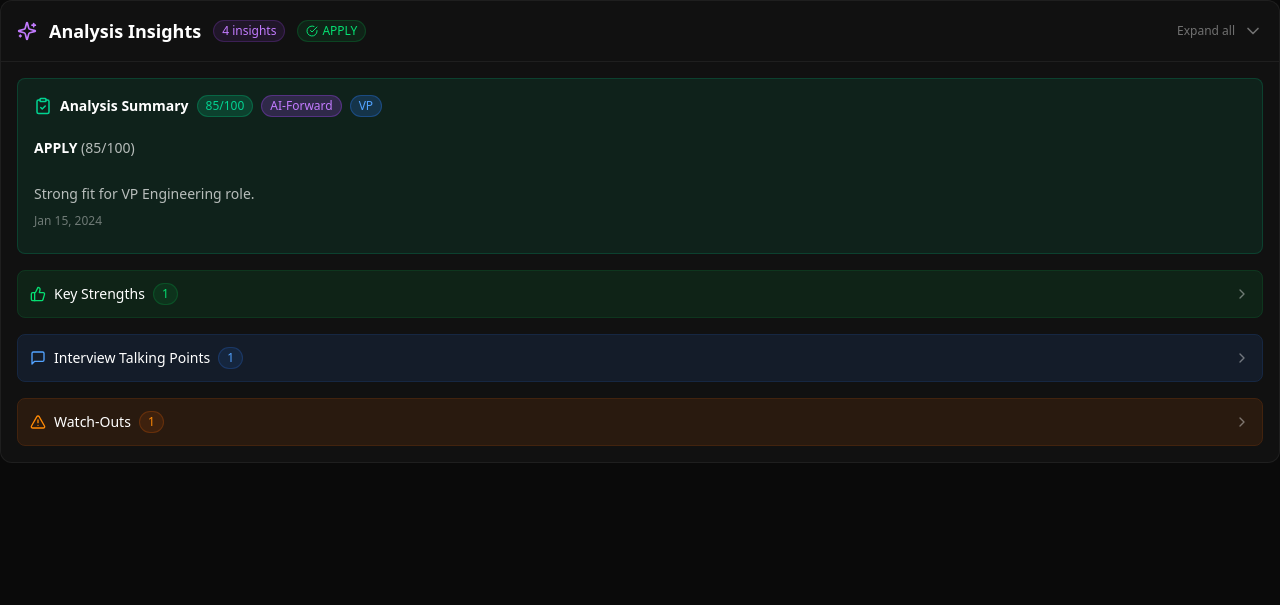
it: AnalysisInsightsPanel › expands section when clicked
This screenshot has width=1280, height=605.
# Click to expand
Click the button "Key Strengths 1".
click(99, 294)  # box 18,271 -> 1262,317
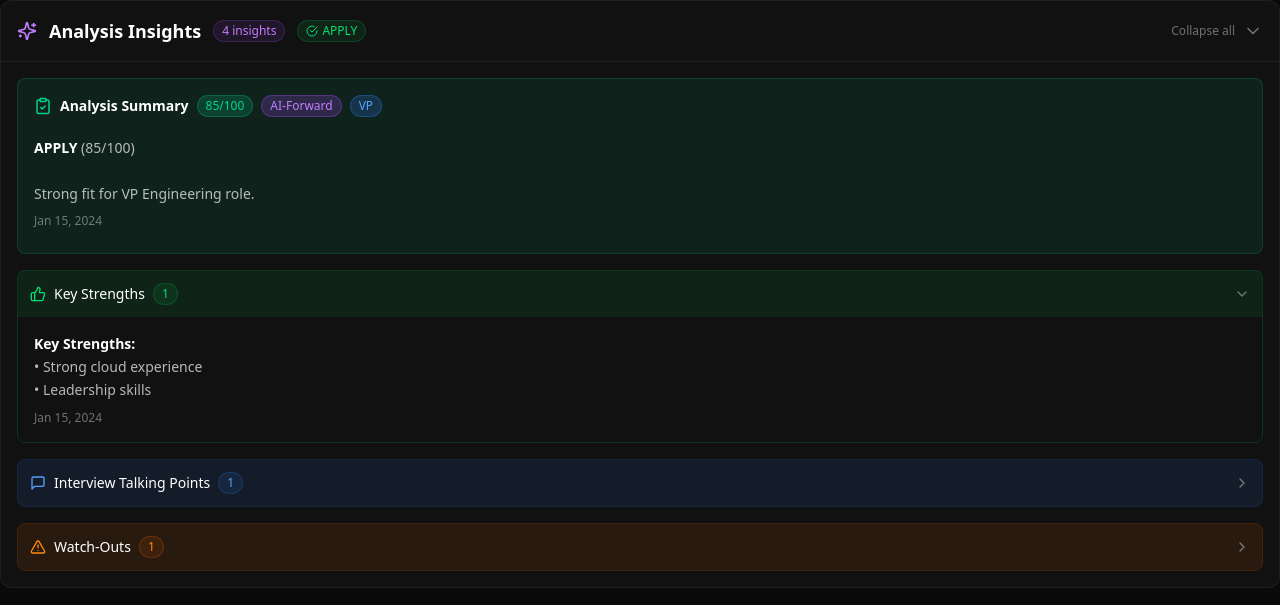
Expected: the text "• Strong cloud experience • Leadership skills" is shown, 34,357 -> 202,399
